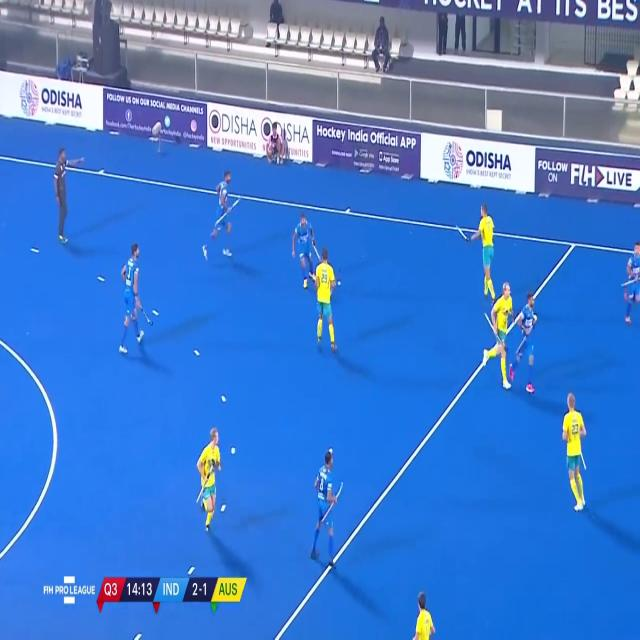ball: (336, 274, 346, 292)
